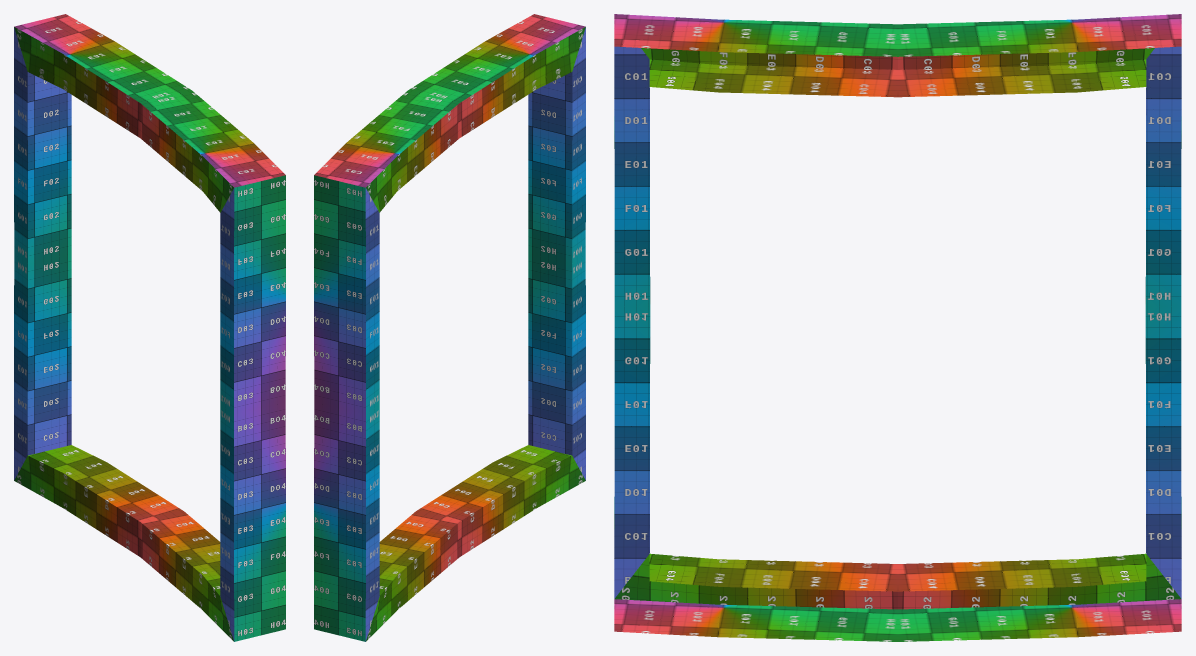
File: Transition.fbx
3 views of the same model, side by side, from view 1: azimuth 30°, elevation 25°; view 2: azimuth 150°, elevation 25°; view 3: azimuth 270°, elevation 25° (orthographic). The views are drawn at different scales.
Parts seen in each view (by area): view 1: polySurface8274; view 2: polySurface8274; view 3: polySurface8274.
Boxes of the visible parts, x1=… form: polySurface8274: x1=14, y1=14, x2=285, y2=641; polySurface8274: x1=314, y1=14, x2=585, y2=641; polySurface8274: x1=614, y1=14, x2=1181, y2=641.
Size of the model in its own units: 91.94 by 585 by 514.
